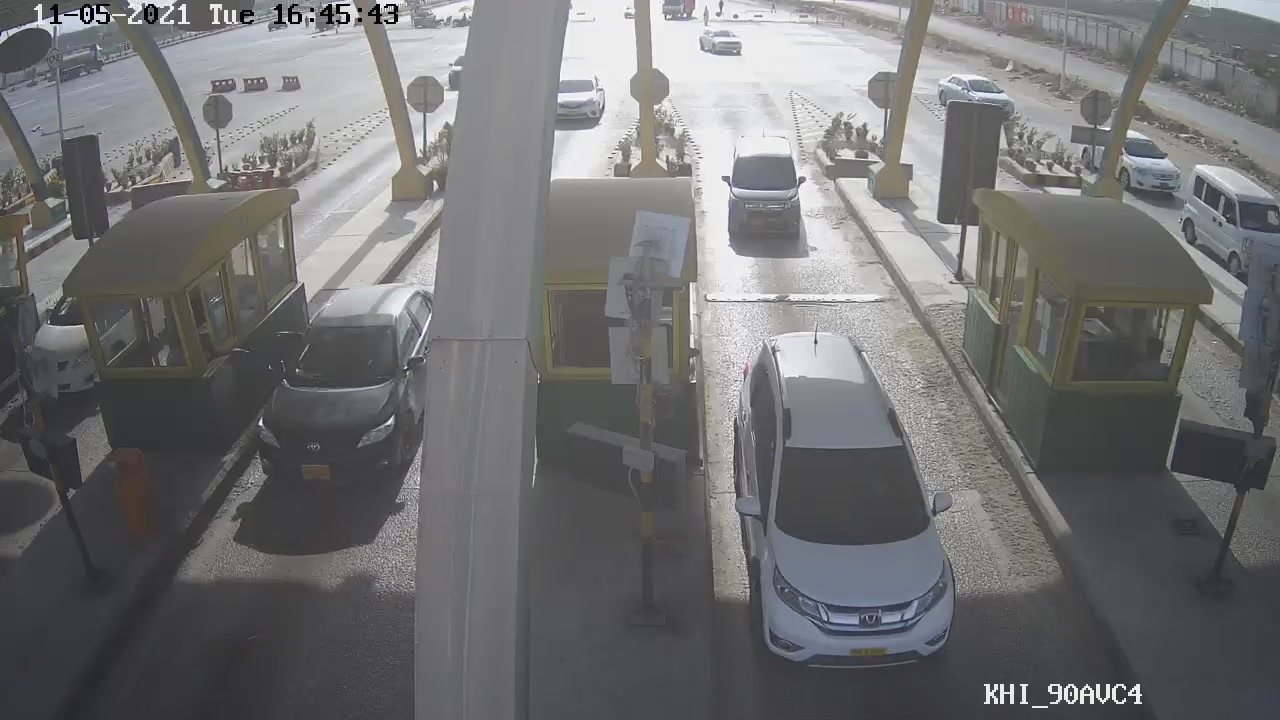F1: (730, 328, 966, 677), (716, 134, 823, 246)
